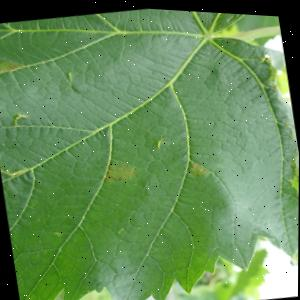Folha: (0, 0, 300, 300)
Fungo: (100, 155, 140, 182), (187, 154, 210, 174), (11, 109, 30, 125), (259, 48, 272, 58), (155, 133, 165, 145)
